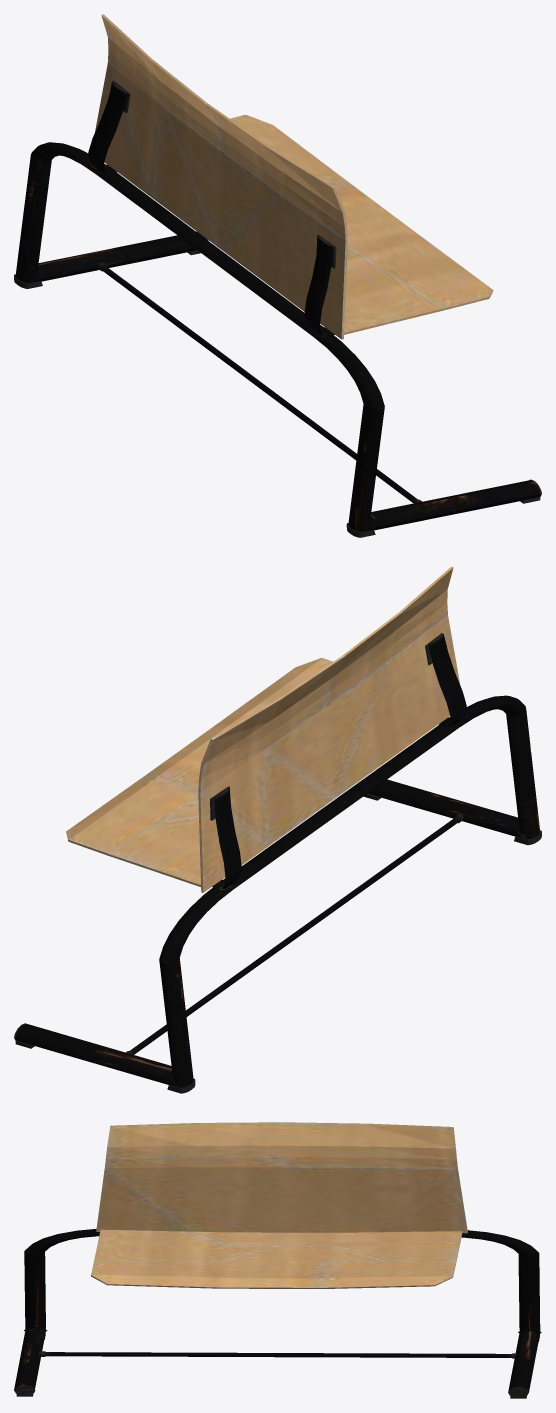
File: chair_0.glb
The picture shows the model from 3 angles, top to bottom: view 1: azimuth 30°, elevation 25°; view 2: azimuth 150°, elevation 25°; view 3: azimuth 270°, elevation 25°; orthographic projection. The views are drawn at different scales.
Visible parts, largest first — view 1: chair_0; view 2: chair_0; view 3: chair_0.
Boxes of the visible parts, box(x1,y1,x2,y2) form: chair_0: box(14, 14, 541, 537); chair_0: box(14, 566, 541, 1093); chair_0: box(14, 1122, 541, 1398).
Size of the model in its own units: 0.6261 by 0.9159 by 1.99.
1 material, 1 textured.
